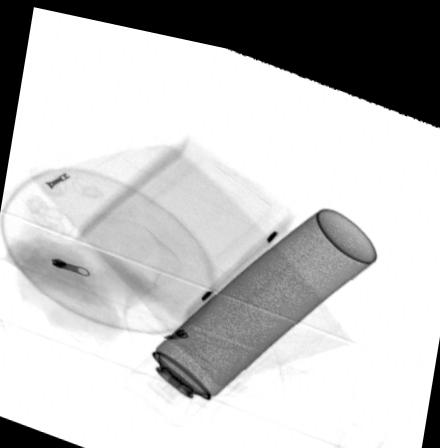Sprayer: (122, 190, 379, 421)
